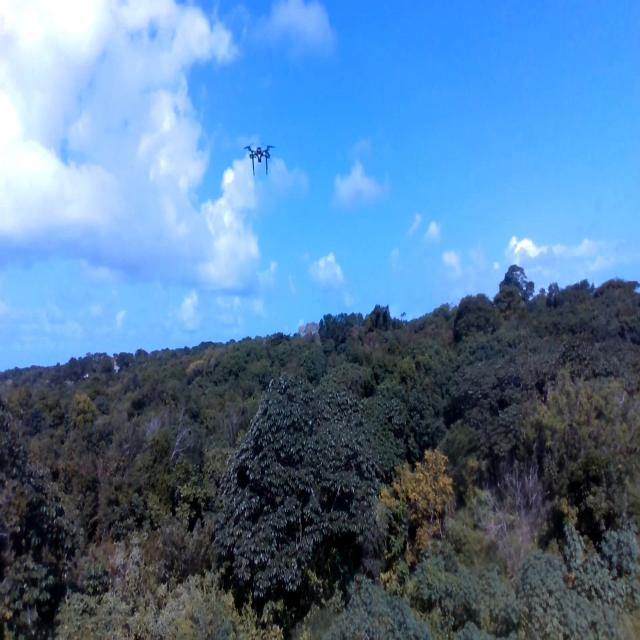-uav-: (238, 133, 280, 185)
